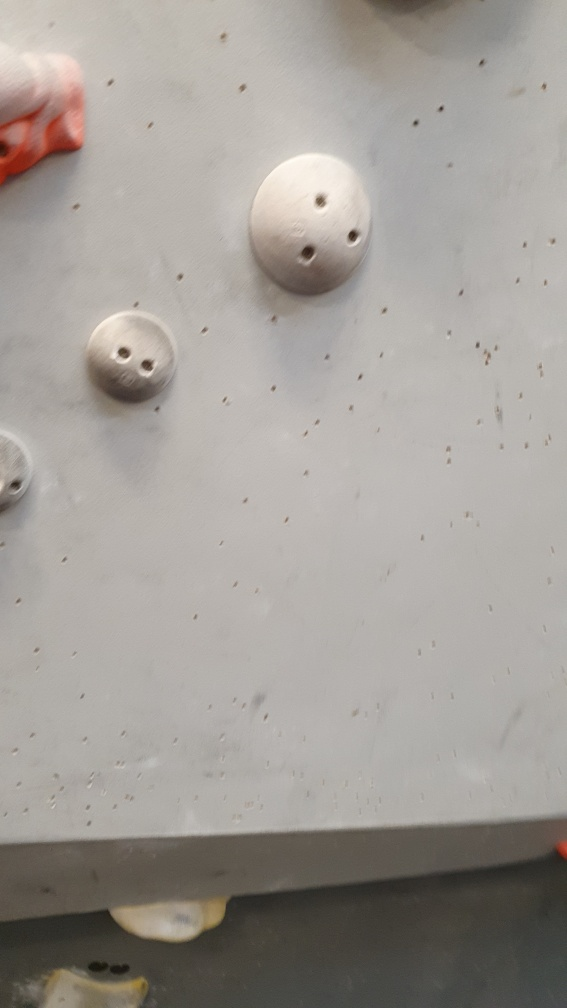Hand Start: (109, 959, 134, 976), (88, 955, 106, 977)
Jug: (1, 46, 95, 197)
Sloper: (249, 145, 375, 299), (83, 309, 187, 409), (1, 427, 35, 515)
